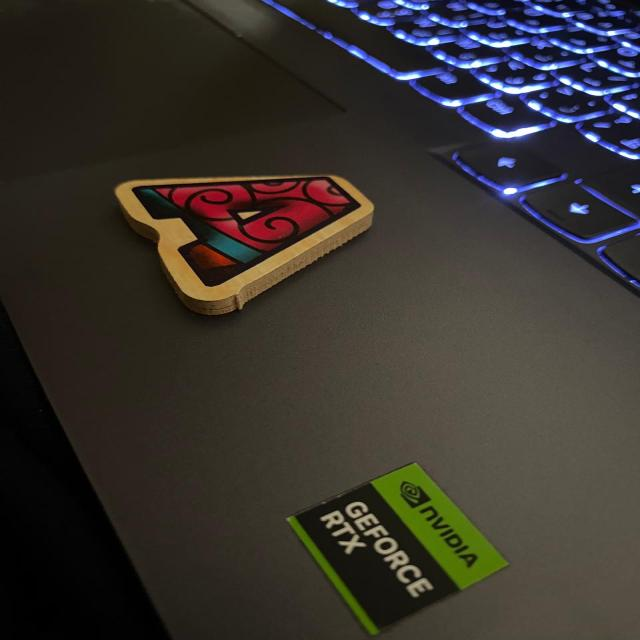A: (115, 174, 371, 314)
